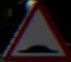Speed Breaker ahead: (11, 8, 60, 53)
